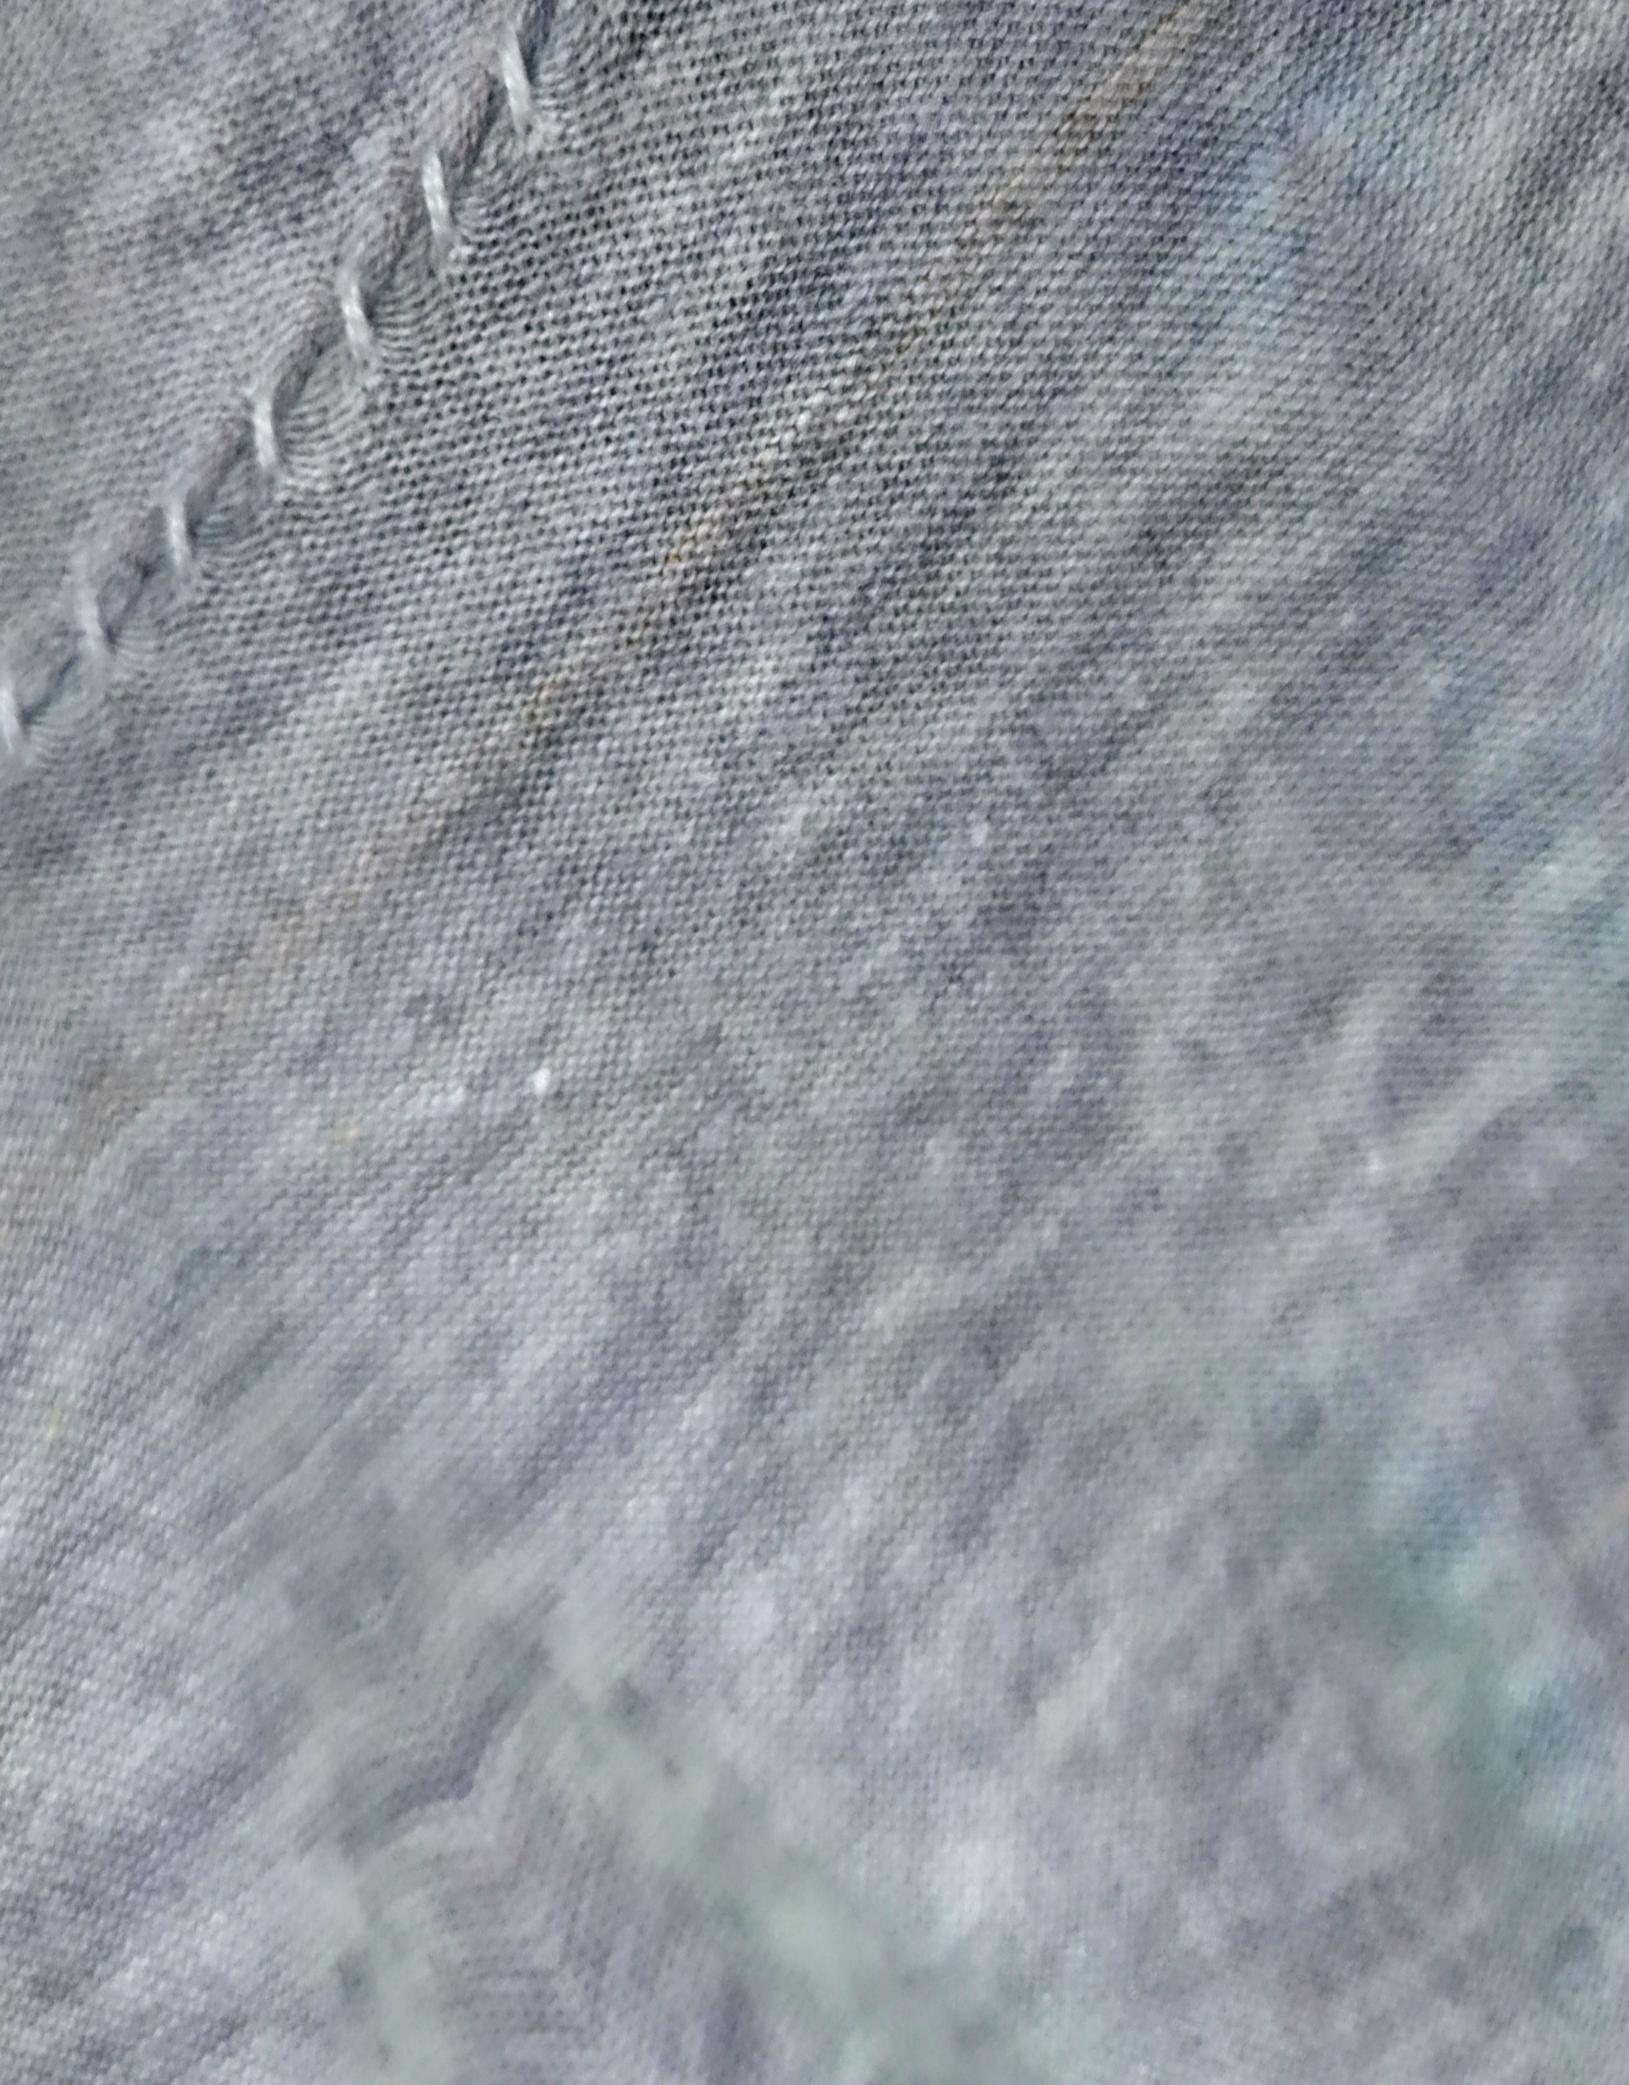slub: (12, 3, 563, 767)
